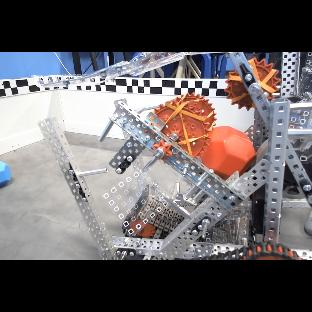Robot: (107, 52, 312, 260), (38, 117, 142, 260), (35, 52, 208, 87), (126, 203, 144, 217)
